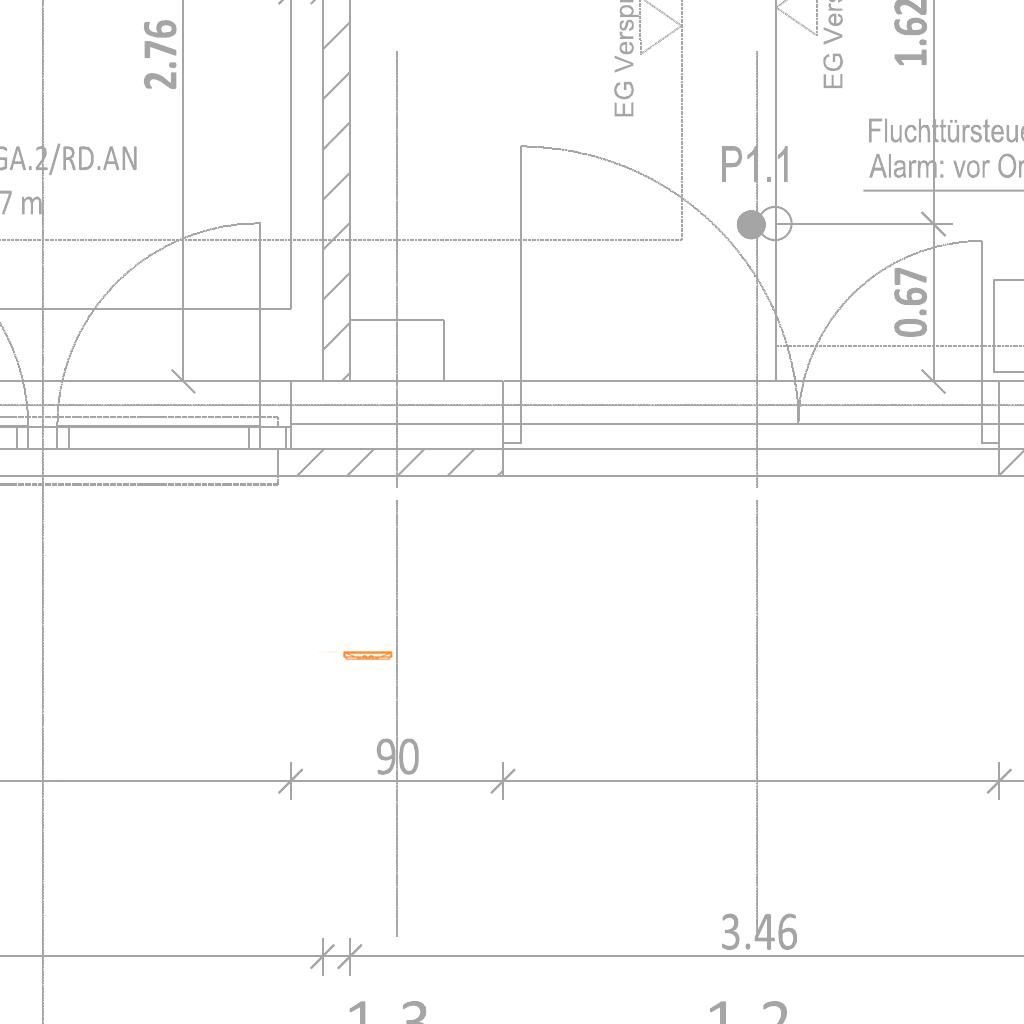Sicherheitsleuchte_Wandeinbau: (316, 650, 395, 662)
